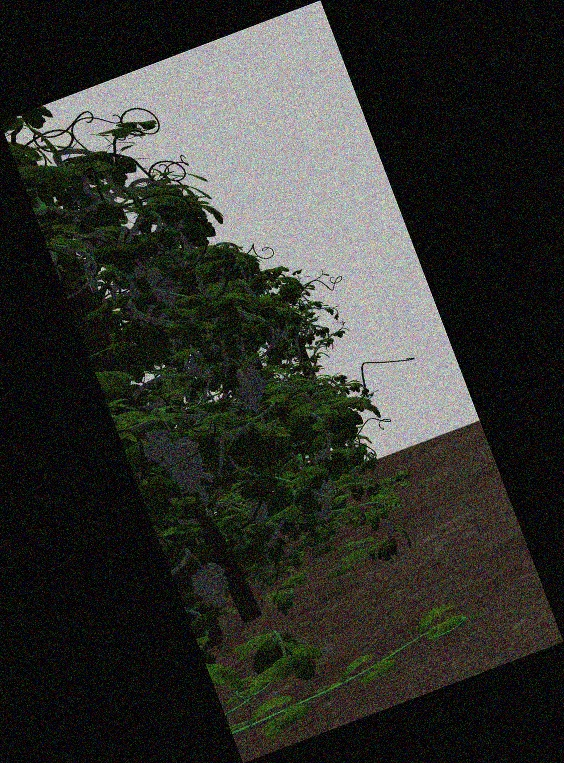grape: (168, 438, 203, 492), (192, 564, 229, 608), (150, 268, 178, 307), (236, 367, 265, 403), (142, 430, 172, 459), (311, 483, 332, 521), (247, 502, 269, 523)
